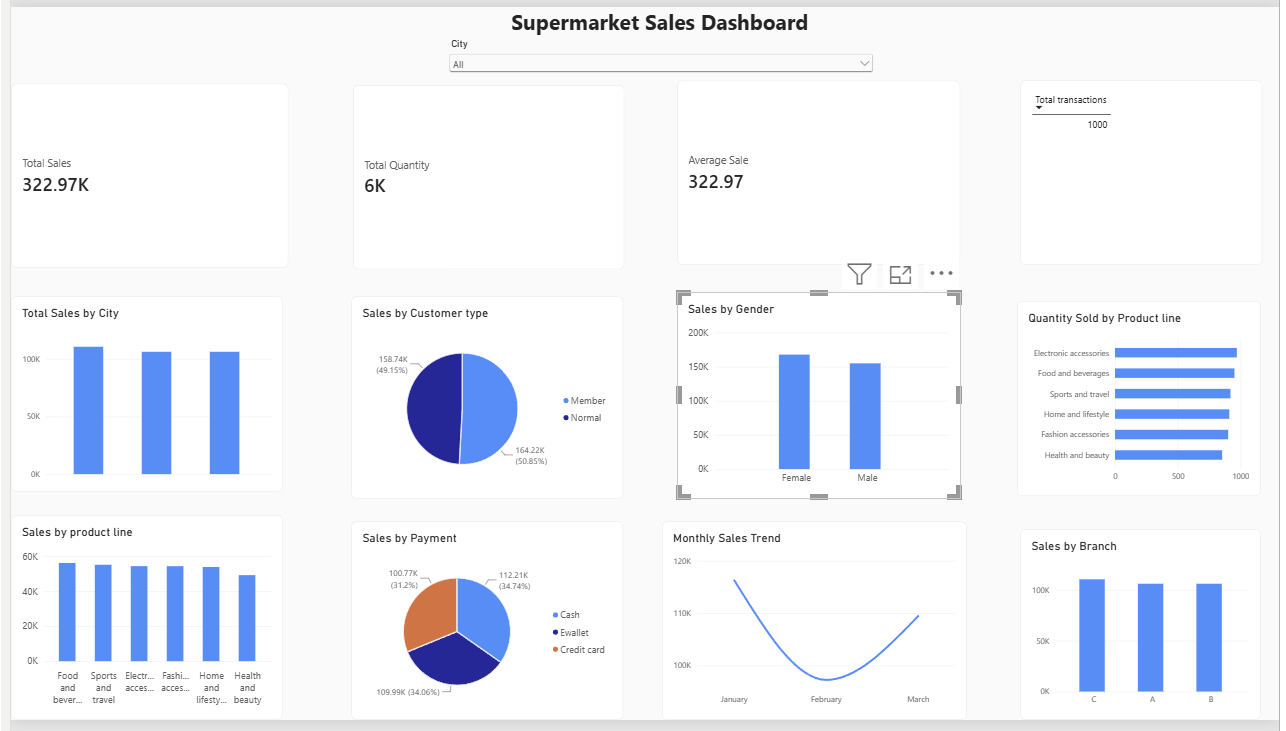

What the dashboard file says about the page in this screenshot:
{"tool":"powerbi","page":{"name":"Page 1","canvas":[1920,1080],"ordinal":0},"visuals":[{"type":"cardVisual","fields":{"Data":["Sum(in.Total)"]},"box":[0,115.8,420.2,279.4],"z":0},{"type":"cardVisual","fields":{"Data":["Sum(in.Quantity)"]},"box":[517.9,118.1,411.1,279.4],"z":2},{"type":"cardVisual","fields":{"Data":["Avg(in.Total)"]},"box":[1008.5,111.3,429.3,279.4],"z":3},{"type":"tableEx","fields":{"Values":["in.Invoice ID"]},"box":[1528.6,111.3,365.7,279.4],"z":5},{"type":"clusteredColumnChart","title":"Total  Sales by City","fields":{"Category":["in.City"],"Y":["Sum(in.Total)"]},"box":[0,438.4,411.1,295.3],"z":6},{"type":"columnChart","title":"Sales by product line","fields":{"Category":["in.Product line"],"Y":["Sum(in.Total)"]},"box":[0,770,411.1,308.9],"z":7},{"type":"pieChart","title":"Sales by Customer type ","fields":{"Category":["in.Customer type"],"Y":["Sum(in.Total)"]},"box":[515.6,438.4,411.1,306.6],"z":8},{"type":"pieChart","title":"Sales  by Payment","fields":{"Category":["in.Payment"],"Y":["Sum(in.Total)"]},"box":[515.6,779.1,411,300],"z":9},{"type":"clusteredColumnChart","title":"Sales by Gender","fields":{"Category":["in.Gender"],"Y":["Sum(in.Total)"]},"box":[1008.5,431.5,429.3,313.4],"z":10},{"type":"lineChart","title":"Monthly  Sales Trend","fields":{"Category":["in.Date.Variation.Date Hierarchy.Month"],"Y":["Sum(in.Total)"]},"box":[985.7,779.1,461.1,299.8],"z":11},{"type":"clusteredBarChart","title":"Quantity Sold by Product line","fields":{"Category":["in.Product line"],"Y":["Sum(in.Quantity)"]},"box":[1524,445.2,368,295.3],"z":12},{"type":"clusteredColumnChart","title":"Sales by Branch","fields":{"Category":["in.Branch"],"Y":["Sum(in.Total)"]},"box":[1528.6,790.4,363.4,288.5],"z":13},{"type":"textbox","box":[0,0,411,279],"z":14},{"type":"textbox","box":[47.7,0,1869.3,115.8],"z":15},{"type":"textbox","box":[813,0,411,279],"z":16},{"type":"textbox","box":[1224,0,284,279],"z":17},{"type":"textbox","box":[1709,800,209,280],"z":18},{"type":"slicer","fields":{"Values":["in.City"]},"box":[658.7,47.7,651.9,127.2],"z":19}]}

Visuals, with their boxes in screenshot pixels (x1, y1, x2, y2), scaled from the page's 1920x1080 canvas onto the 1286x731 screenshot:
cardVisual - Sum(in.Total): BBox(0, 78, 281, 267)
cardVisual - Sum(in.Quantity): BBox(347, 80, 622, 269)
cardVisual - Avg(in.Total): BBox(675, 75, 963, 264)
tableEx - in.Invoice ID: BBox(1024, 75, 1269, 264)
"Total  Sales by City" clusteredColumnChart: BBox(0, 297, 275, 497)
"Sales by product line" columnChart: BBox(0, 521, 275, 730)
"Sales by Customer type " pieChart: BBox(345, 297, 621, 504)
"Sales  by Payment" pieChart: BBox(345, 527, 621, 730)
"Sales by Gender" clusteredColumnChart: BBox(675, 292, 963, 504)
"Monthly  Sales Trend" lineChart: BBox(660, 527, 969, 730)
"Quantity Sold by Product line" clusteredBarChart: BBox(1021, 301, 1267, 501)
"Sales by Branch" clusteredColumnChart: BBox(1024, 535, 1267, 730)
textbox: BBox(0, 0, 275, 189)
textbox: BBox(32, 0, 1284, 78)
textbox: BBox(545, 0, 820, 189)
textbox: BBox(820, 0, 1010, 189)
textbox: BBox(1145, 541, 1285, 730)
slicer - in.City: BBox(441, 32, 878, 118)
